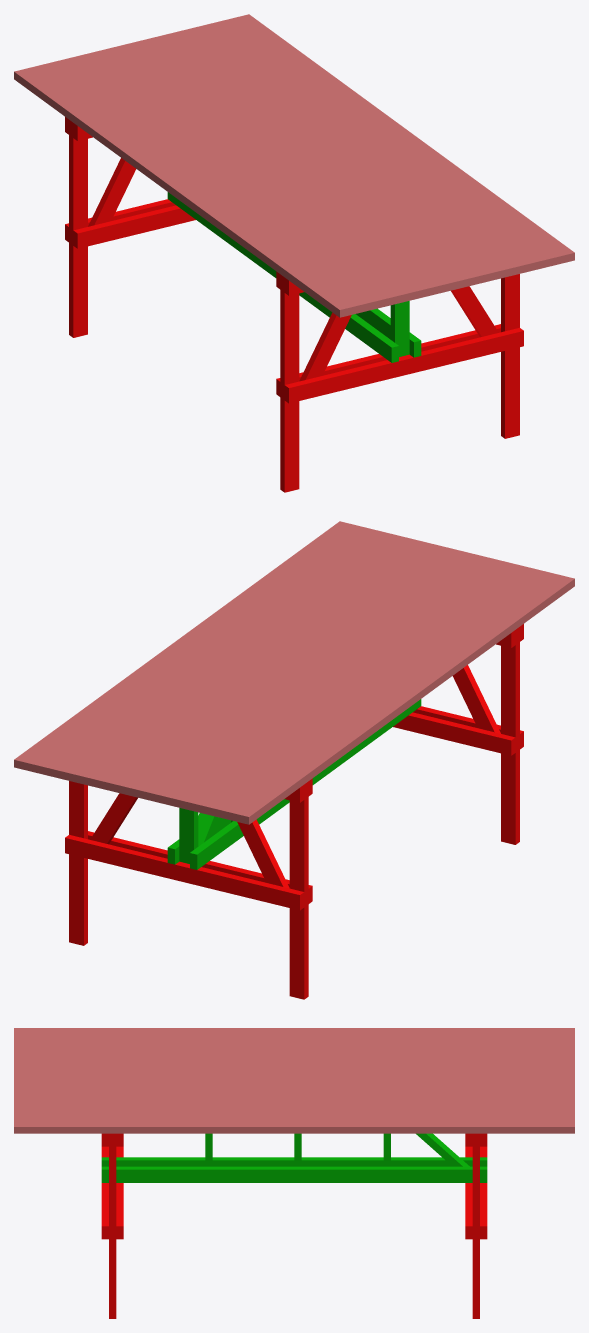
Rendered from result.glb.
3 views of the same model, one above another, from view 1: azimuth 30°, elevation 25°; view 2: azimuth 150°, elevation 25°; view 3: azimuth 270°, elevation 25° (orthographic). The views are drawn at different scales.
Visible parts, largest first — view 1: b80ed8ec-f9f6-415c-8a75-81bc34d506fc__Box, e2819cce-9bea-4b38-8dc8-3d480ea5788d__undefined, 5499fd41-0e01-46c2-ad06-9751d6af54f7__undefined, 5e0f6c16-8fe9-4ea0-960d-b60aacc46b0d__undefined, ea6afbf5-45a3-4521-a899-cdd6af5fb0be__undefined, fbe2abe3-ae29-49cc-81ce-6b9a22af90a3__undefined, 1198913a-1951-4bf2-a9fa-eda3f512ad46__undefined, 52b961da-cd1f-4fe3-9ed4-f710875a4234__undefined, d910361f-1110-4dcc-9c71-451b6a6e7b98__undefined, fa938c52-df89-4093-9d3c-9a99c8ed1fd9__undefined, 2a200dbc-adf2-4af6-8872-5fa254c9cde3__undefined, 98aeb018-6c66-4249-80ba-4daf9cc5349e__undefined (+17 smaller); view 2: b80ed8ec-f9f6-415c-8a75-81bc34d506fc__Box, e2819cce-9bea-4b38-8dc8-3d480ea5788d__undefined, 5499fd41-0e01-46c2-ad06-9751d6af54f7__undefined, 5e0f6c16-8fe9-4ea0-960d-b60aacc46b0d__undefined, ea6afbf5-45a3-4521-a899-cdd6af5fb0be__undefined, fbe2abe3-ae29-49cc-81ce-6b9a22af90a3__undefined, 1198913a-1951-4bf2-a9fa-eda3f512ad46__undefined, 52b961da-cd1f-4fe3-9ed4-f710875a4234__undefined, d910361f-1110-4dcc-9c71-451b6a6e7b98__undefined, fa938c52-df89-4093-9d3c-9a99c8ed1fd9__undefined, 2a200dbc-adf2-4af6-8872-5fa254c9cde3__undefined, 98aeb018-6c66-4249-80ba-4daf9cc5349e__undefined (+16 smaller); view 3: 98aeb018-6c66-4249-80ba-4daf9cc5349e__undefined, a5d99d0b-2b84-4ccc-ae61-7a32ca65bed5__strutH, b80ed8ec-f9f6-415c-8a75-81bc34d506fc__Box, 5499fd41-0e01-46c2-ad06-9751d6af54f7__undefined, 10c91f0b-5d98-4335-a4f6-2be7d4875dd8__undefined, 52b961da-cd1f-4fe3-9ed4-f710875a4234__undefined, 1198913a-1951-4bf2-a9fa-eda3f512ad46__undefined, d910361f-1110-4dcc-9c71-451b6a6e7b98__undefined, fbe2abe3-ae29-49cc-81ce-6b9a22af90a3__undefined, 2a200dbc-adf2-4af6-8872-5fa254c9cde3__undefined, 37e2efba-b927-4fc7-9849-049fd88e8f96__undefined, ea6afbf5-45a3-4521-a899-cdd6af5fb0be__undefined (+13 smaller).
Boxes of the visible parts, x1,y1,x2,y2 form: b80ed8ec-f9f6-415c-8a75-81bc34d506fc__Box: (14,68,354,317); e2819cce-9bea-4b38-8dc8-3d480ea5788d__undefined: (220,18,560,267); 5499fd41-0e01-46c2-ad06-9751d6af54f7__undefined: (29,64,369,313); 5e0f6c16-8fe9-4ea0-960d-b60aacc46b0d__undefined: (161,32,501,281); ea6afbf5-45a3-4521-a899-cdd6af5fb0be__undefined: (176,28,516,277); fbe2abe3-ae29-49cc-81ce-6b9a22af90a3__undefined: (117,43,457,292); 1198913a-1951-4bf2-a9fa-eda3f512ad46__undefined: (73,53,413,303); 52b961da-cd1f-4fe3-9ed4-f710875a4234__undefined: (58,57,398,306); d910361f-1110-4dcc-9c71-451b6a6e7b98__undefined: (102,46,442,296); fa938c52-df89-4093-9d3c-9a99c8ed1fd9__undefined: (190,25,530,274); 2a200dbc-adf2-4af6-8872-5fa254c9cde3__undefined: (132,39,471,288); 98aeb018-6c66-4249-80ba-4daf9cc5349e__undefined: (234,14,574,263); b80ed8ec-f9f6-415c-8a75-81bc34d506fc__Box: (234,575,574,824); e2819cce-9bea-4b38-8dc8-3d480ea5788d__undefined: (28,525,368,774); 5499fd41-0e01-46c2-ad06-9751d6af54f7__undefined: (219,571,559,820); 5e0f6c16-8fe9-4ea0-960d-b60aacc46b0d__undefined: (87,539,427,788); ea6afbf5-45a3-4521-a899-cdd6af5fb0be__undefined: (72,535,412,784); fbe2abe3-ae29-49cc-81ce-6b9a22af90a3__undefined: (131,550,471,799); 1198913a-1951-4bf2-a9fa-eda3f512ad46__undefined: (175,560,515,810); 52b961da-cd1f-4fe3-9ed4-f710875a4234__undefined: (190,564,530,813); d910361f-1110-4dcc-9c71-451b6a6e7b98__undefined: (146,553,486,803); fa938c52-df89-4093-9d3c-9a99c8ed1fd9__undefined: (58,532,398,781); 2a200dbc-adf2-4af6-8872-5fa254c9cde3__undefined: (117,546,456,795); 98aeb018-6c66-4249-80ba-4daf9cc5349e__undefined: (14,521,354,770); 98aeb018-6c66-4249-80ba-4daf9cc5349e__undefined: (14,1120,574,1133); a5d99d0b-2b84-4ccc-ae61-7a32ca65bed5__strutH: (101,1166,487,1182); b80ed8ec-f9f6-415c-8a75-81bc34d506fc__Box: (14,1028,574,1034); 5499fd41-0e01-46c2-ad06-9751d6af54f7__undefined: (14,1034,574,1040); 10c91f0b-5d98-4335-a4f6-2be7d4875dd8__undefined: (14,1040,574,1046); 52b961da-cd1f-4fe3-9ed4-f710875a4234__undefined: (14,1046,574,1052); 1198913a-1951-4bf2-a9fa-eda3f512ad46__undefined: (14,1052,574,1058); d910361f-1110-4dcc-9c71-451b6a6e7b98__undefined: (14,1065,574,1071); fbe2abe3-ae29-49cc-81ce-6b9a22af90a3__undefined: (14,1071,574,1077); 2a200dbc-adf2-4af6-8872-5fa254c9cde3__undefined: (14,1077,574,1083); 37e2efba-b927-4fc7-9849-049fd88e8f96__undefined: (14,1083,574,1089); ea6afbf5-45a3-4521-a899-cdd6af5fb0be__undefined: (14,1096,574,1102).
Size of the model in its own units: 800 by 725 by 1920.
